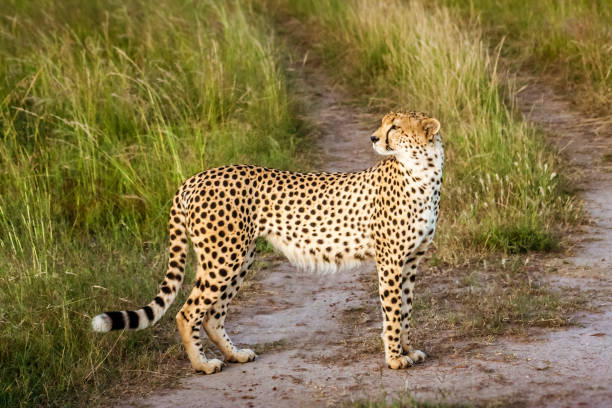cheetah: (362, 102, 447, 169)
